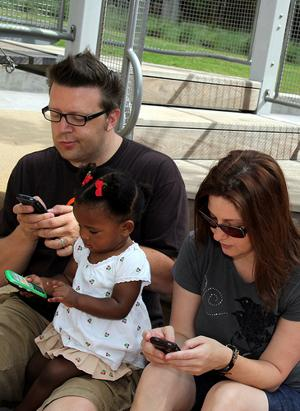person: (129, 149, 300, 409)
